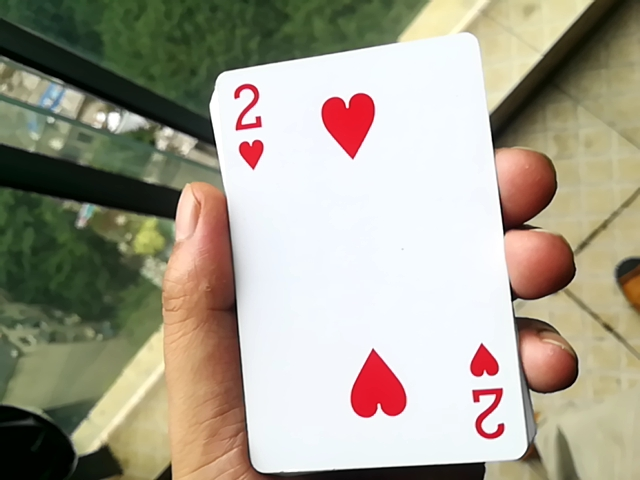hx 2: (196, 35, 535, 475)
